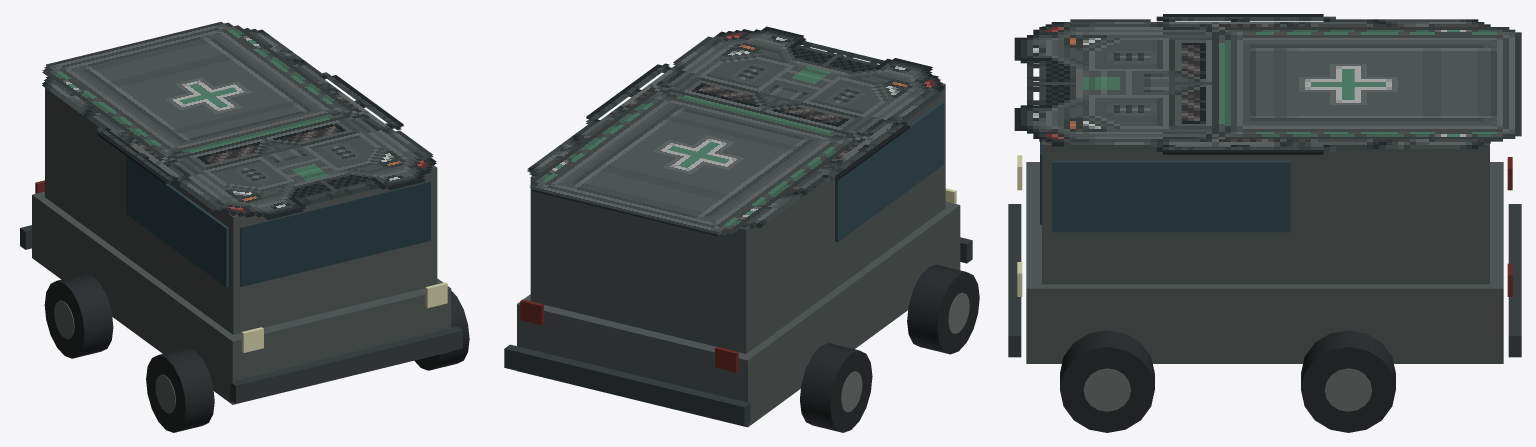
File: CMU3DReduxVehicleHumveeMedical.glb
3 renders of one model, left to right at view 1: azimuth 30°, elevation 25°; view 2: azimuth 150°, elevation 25°; view 3: azimuth 270°, elevation 25°, orthographic. The views are drawn at different scales.
Visible parts, largest first — view 1: source hull roof panel (×3), upper hull, closed lower chassis, cab windscreen, road tire (×3), cab side window, front bumper, wheel hub (×2), front light (×2); view 2: source hull roof panel (×3), upper hull, closed lower chassis, road tire (×2), cab side window, rear bumper, wheel hub (×2), rear marker (×2); view 3: source hull roof panel (×3), upper hull, closed lower chassis, cab side window, road tire (×2), wheel hub (×2), rear bumper, front bumper.
Part boxes in pixels (bbox=[...]): source hull roof panel (×3): bbox=[42, 21, 436, 219]; upper hull: bbox=[45, 79, 437, 334]; closed lower chassis: bbox=[32, 191, 451, 404]; cab windscreen: bbox=[240, 181, 430, 286]; road tire (×3): bbox=[44, 273, 469, 432]; cab side window: bbox=[126, 156, 228, 287]; front bumper: bbox=[230, 326, 462, 403]; wheel hub (×2): bbox=[54, 300, 175, 413]; front light (×2): bbox=[241, 282, 447, 352]; source hull roof panel (×3): bbox=[527, 26, 944, 236]; upper hull: bbox=[530, 83, 945, 353]; closed lower chassis: bbox=[517, 201, 960, 427]; road tire (×2): bbox=[800, 264, 979, 432]; cab side window: bbox=[835, 101, 944, 241]; rear bumper: bbox=[504, 344, 750, 426]; wheel hub (×2): bbox=[841, 292, 969, 412]; rear marker (×2): bbox=[520, 299, 738, 372]; source hull roof panel (×3): bbox=[1014, 14, 1521, 154]; upper hull: bbox=[1042, 26, 1489, 284]; closed lower chassis: bbox=[1026, 162, 1503, 363]; cab side window: bbox=[1052, 160, 1290, 232]; road tire (×2): bbox=[1060, 330, 1395, 432]; wheel hub (×2): bbox=[1083, 368, 1371, 411]; rear bumper: bbox=[1508, 204, 1521, 357]; front bumper: bbox=[1008, 204, 1021, 357].
Size of the model in its own units: 1.98 by 1.49 by 2.59.
11 materials, 3 textured.
